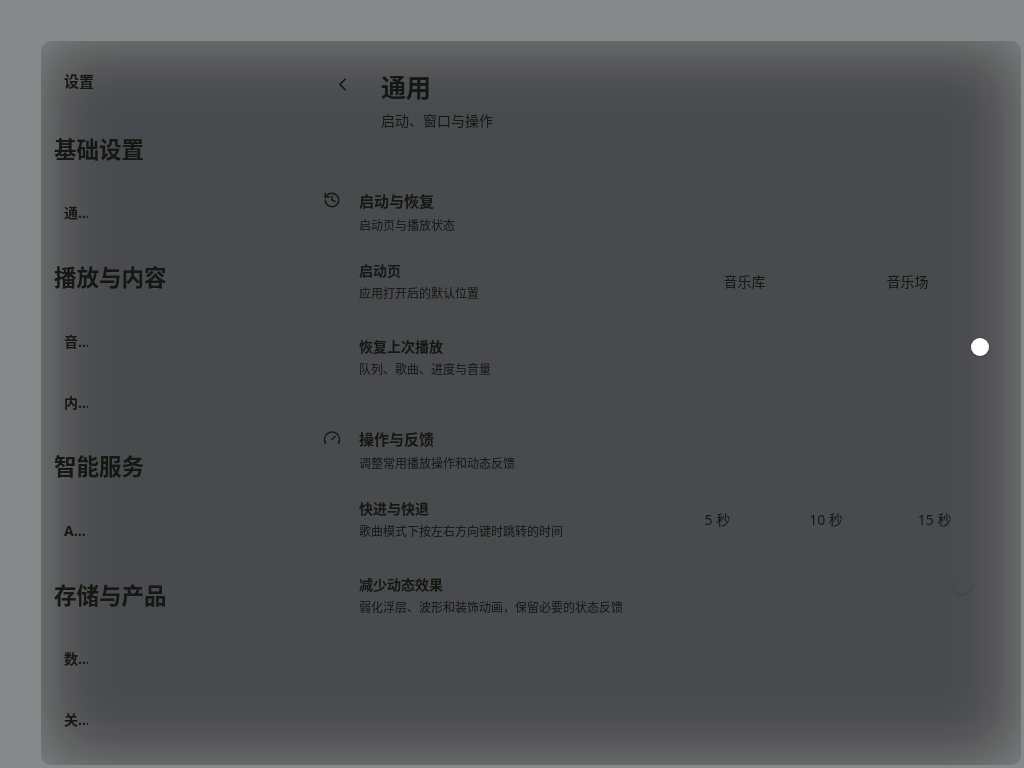
Test: SettingsPanel › uses a concise mobile settings hierarchy without the old subtitle
Expected: the text "设置" is shown, [64,70,94,90]
Expected: the heading "基础设置" is shown, [54,134,144,165]
Click the button "内容与发现" at (167, 402), box [54,373,280,431]
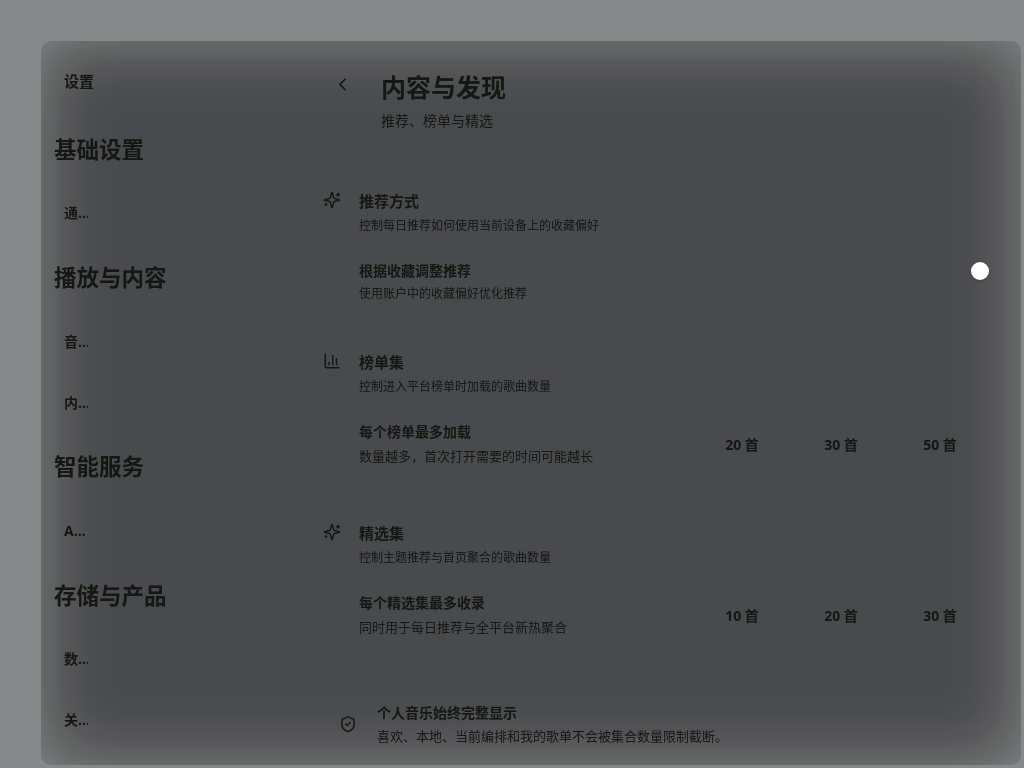
Expected: the button named "返回设置" is shown, [323,65,361,103]
Expected: the heading "内容与发现" is shown, [381,70,506,104]
